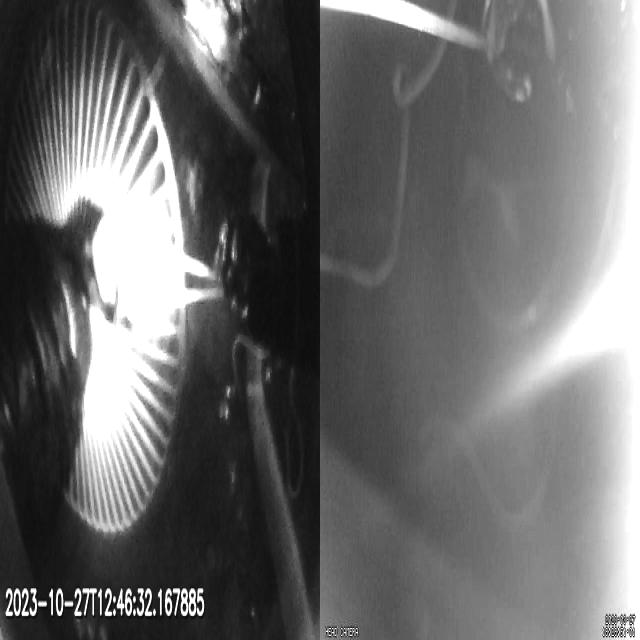head: (92, 208, 172, 329)
